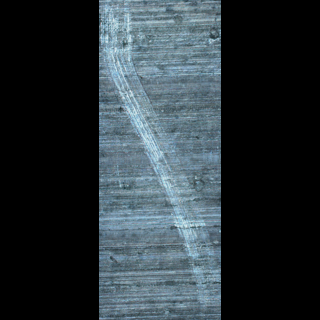d: (99, 0, 134, 94), (179, 221, 214, 304), (158, 150, 191, 233), (127, 84, 160, 151)
